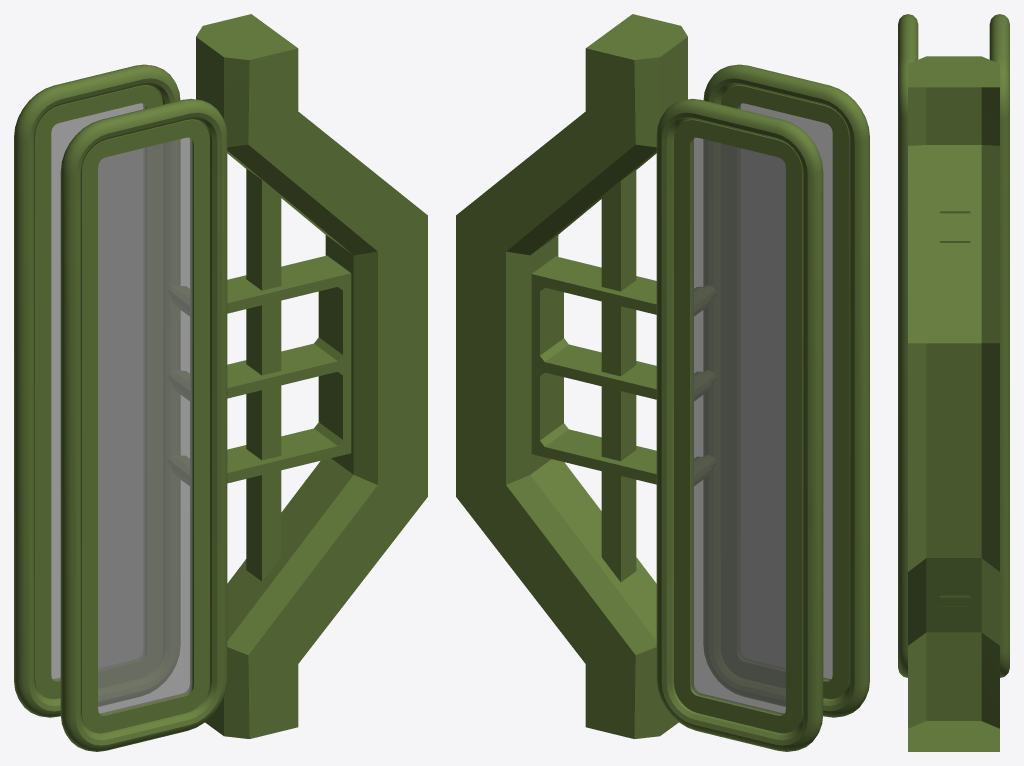
Rendered from Wall_A_4x05m.FBX.
The picture shows the model from 3 angles, left to right: view 1: azimuth 30°, elevation 25°; view 2: azimuth 150°, elevation 25°; view 3: azimuth 270°, elevation 25°; orthographic projection. The views are drawn at different scales.
Parts seen in each view (by area): view 1: Wall_A_4x05m; view 2: Wall_A_4x05m; view 3: Wall_A_4x05m.
Boxes of the visible parts, left/top/right/bottom form: Wall_A_4x05m: left=14, top=14, right=427, bottom=751; Wall_A_4x05m: left=456, top=14, right=869, bottom=751; Wall_A_4x05m: left=898, top=14, right=1009, bottom=751.
Size of the model in its own units: 225 by 400 by 61.
